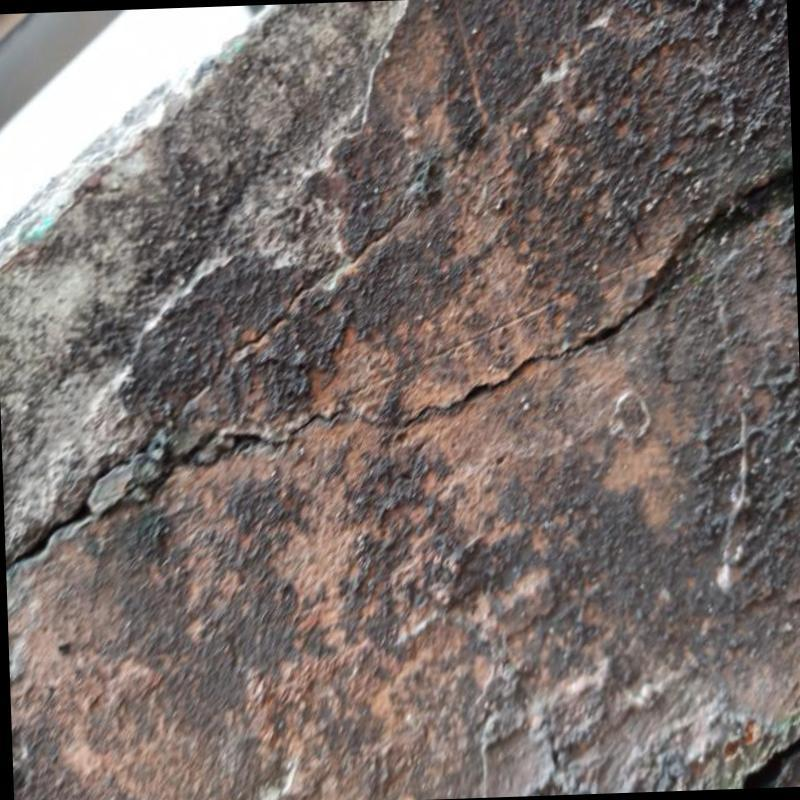pothole: (5, 172, 794, 578)
